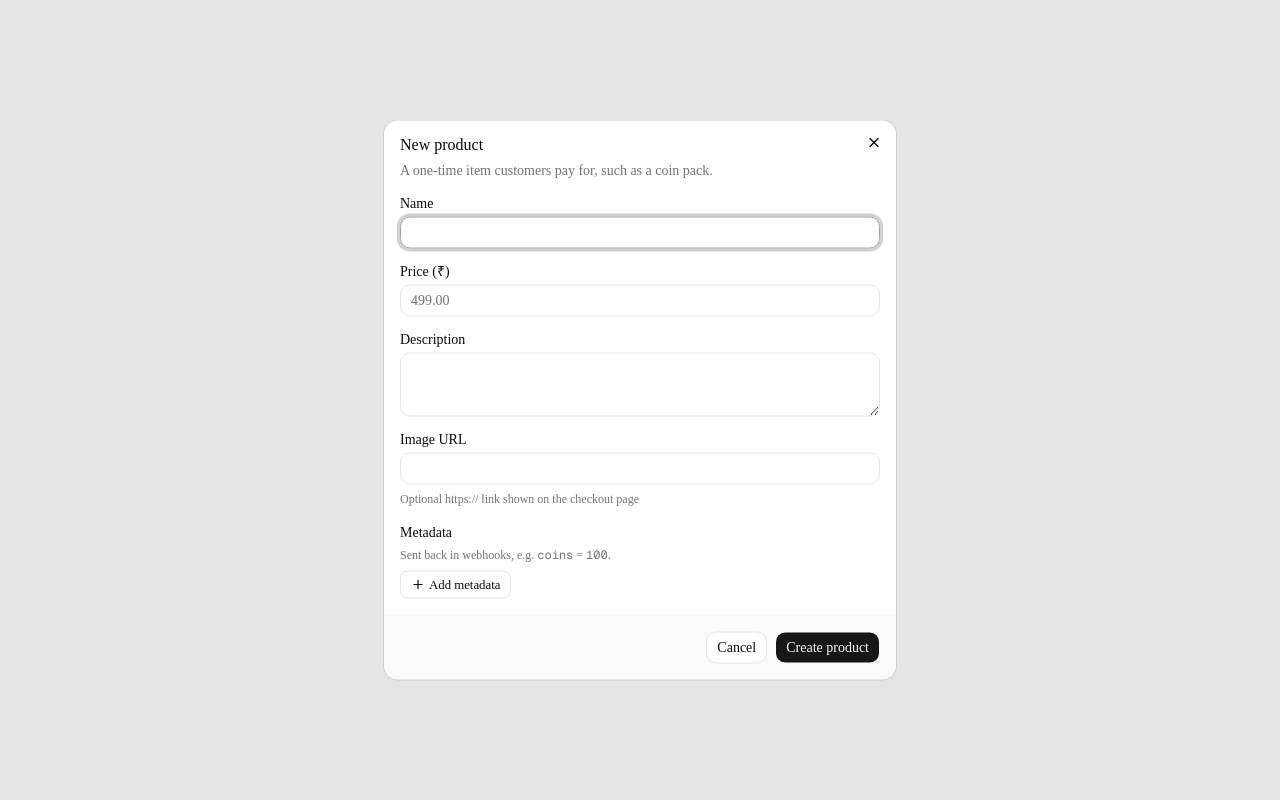
ProductFormDialog › should_show_price_error_and_not_submit_when_below_minimum
Type "Tiny" into the field labelled "Name" at {"x": 640, "y": 232}, box [400, 216, 880, 248]
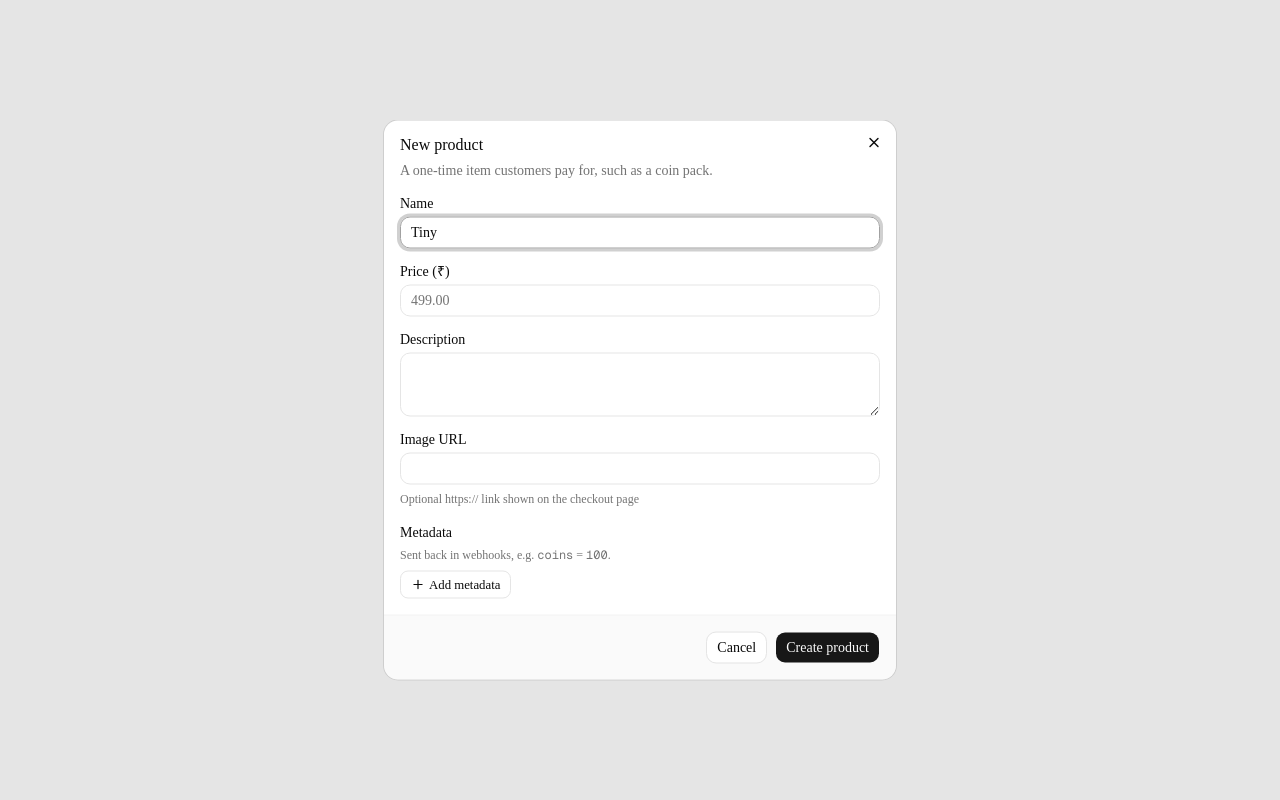
Type "0.50" into the field labelled "Price (₹)" at {"x": 640, "y": 300}, box [400, 284, 880, 316]
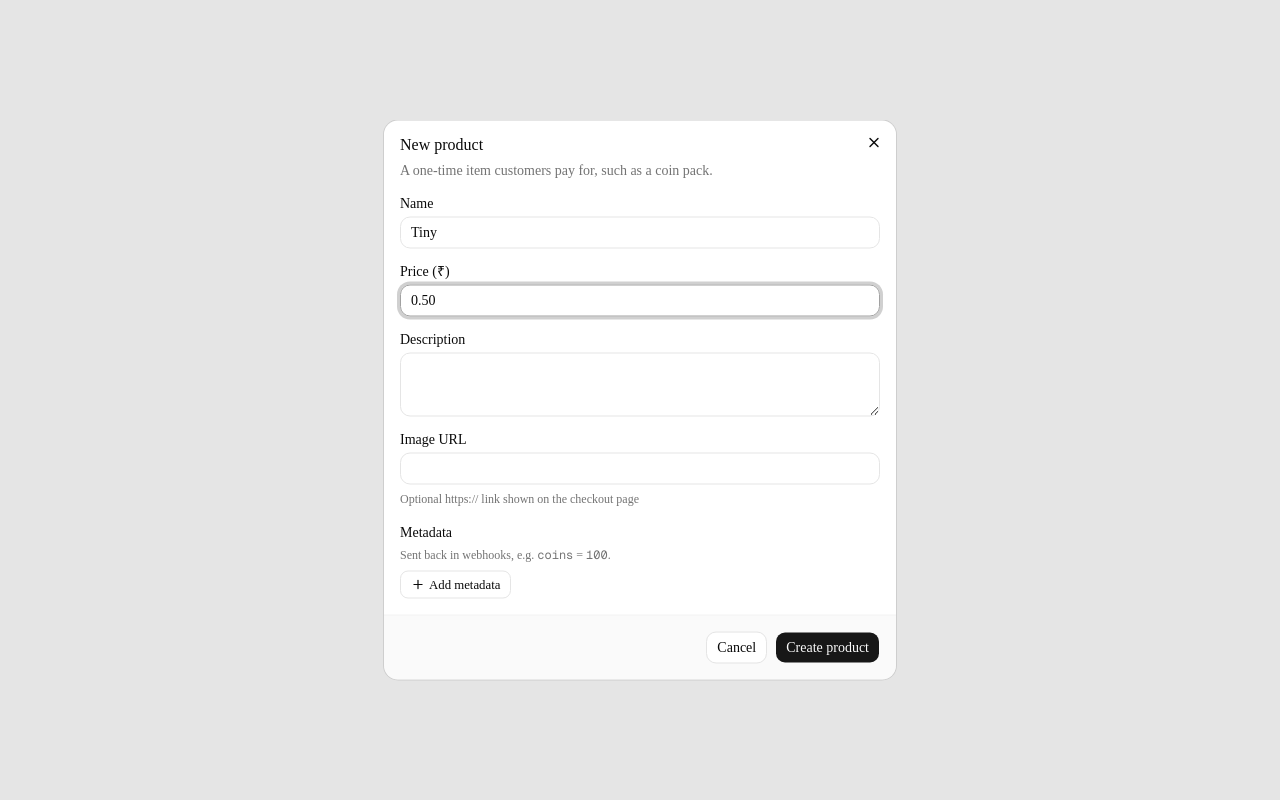
Click the button "Create product" at {"x": 828, "y": 648}, box [775, 632, 880, 664]
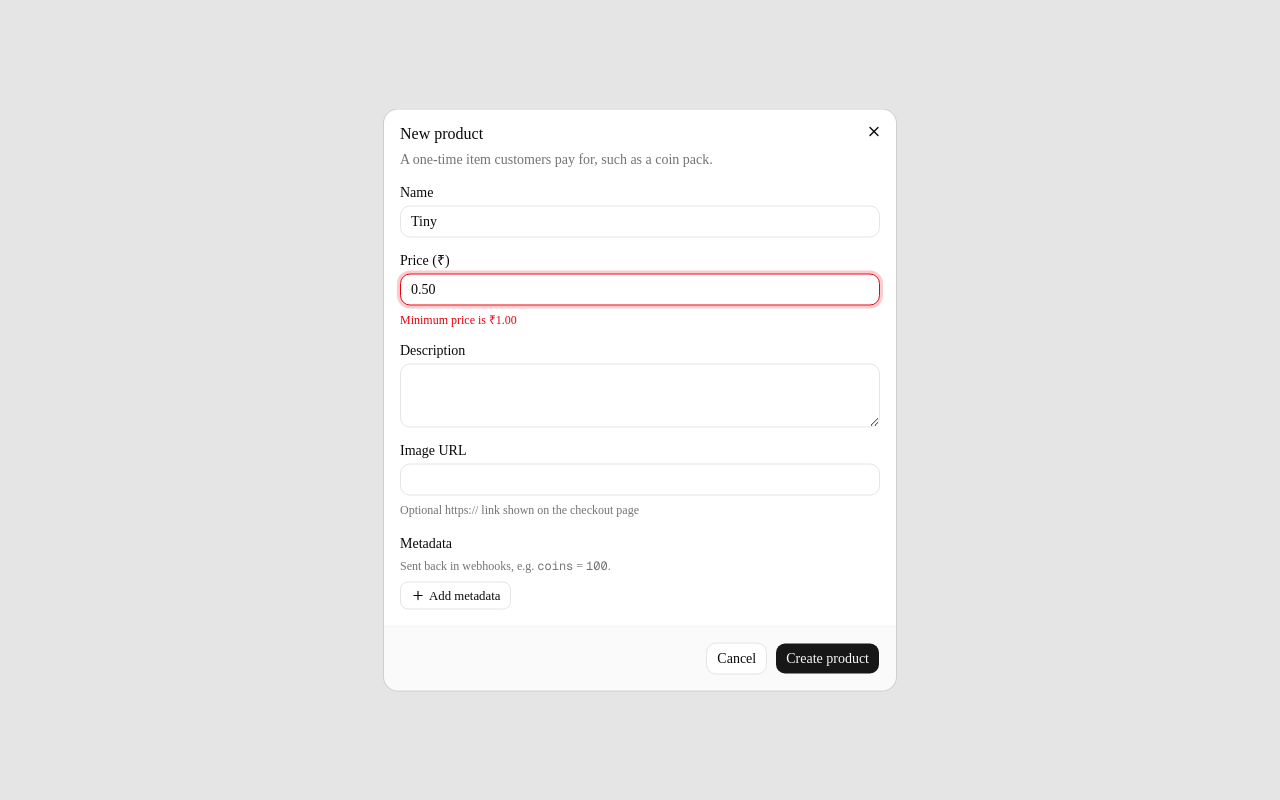
Expected: the text "Minimum price is ₹1.00" is shown, [400, 312, 517, 326]
